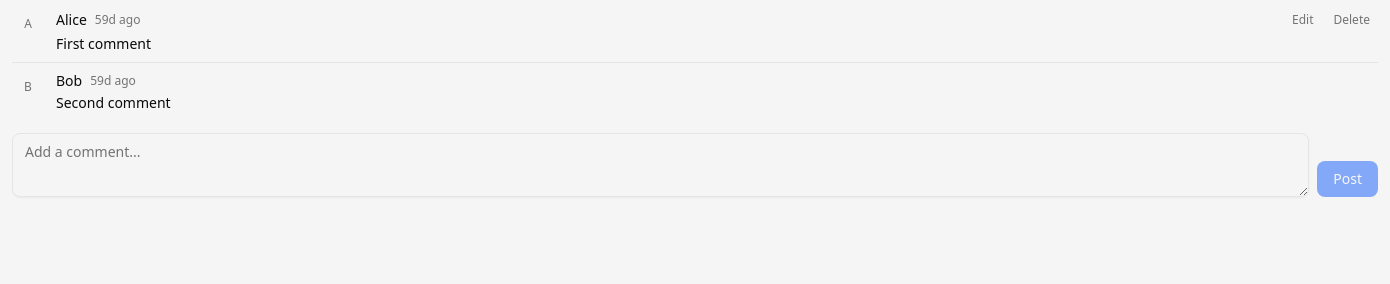
Test: CommentSection › cancels editing
Click the button with aria-label "Edit": (1303, 20) x1=1284 y1=8 x2=1322 y2=32
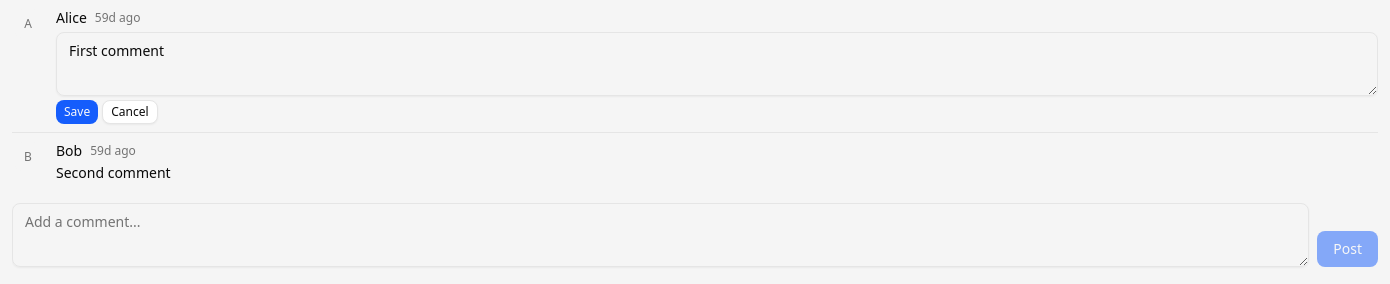
Click the button "Cancel": (130, 112) x1=102 y1=100 x2=158 y2=124
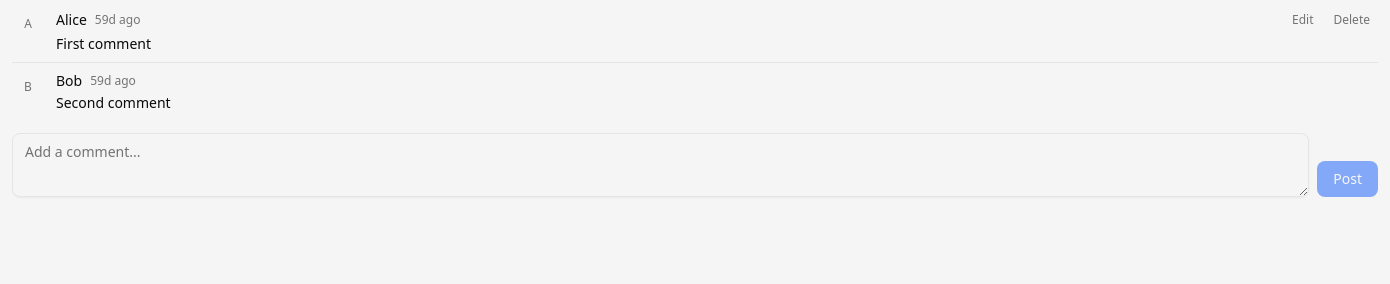
Result: the text "First comment" is shown at x1=56 y1=34 x2=151 y2=53
